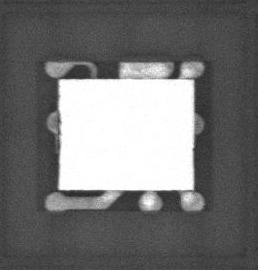DIE_BROKEN: (56, 112, 63, 154)
